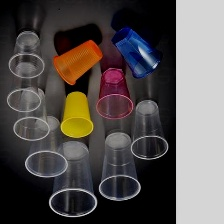glass: (43, 140, 96, 219), (96, 126, 141, 206), (107, 24, 166, 81), (123, 97, 173, 164), (50, 34, 104, 88), (23, 114, 64, 180), (10, 84, 52, 144), (3, 58, 46, 114), (91, 66, 132, 124), (55, 87, 94, 143), (7, 26, 48, 78)
